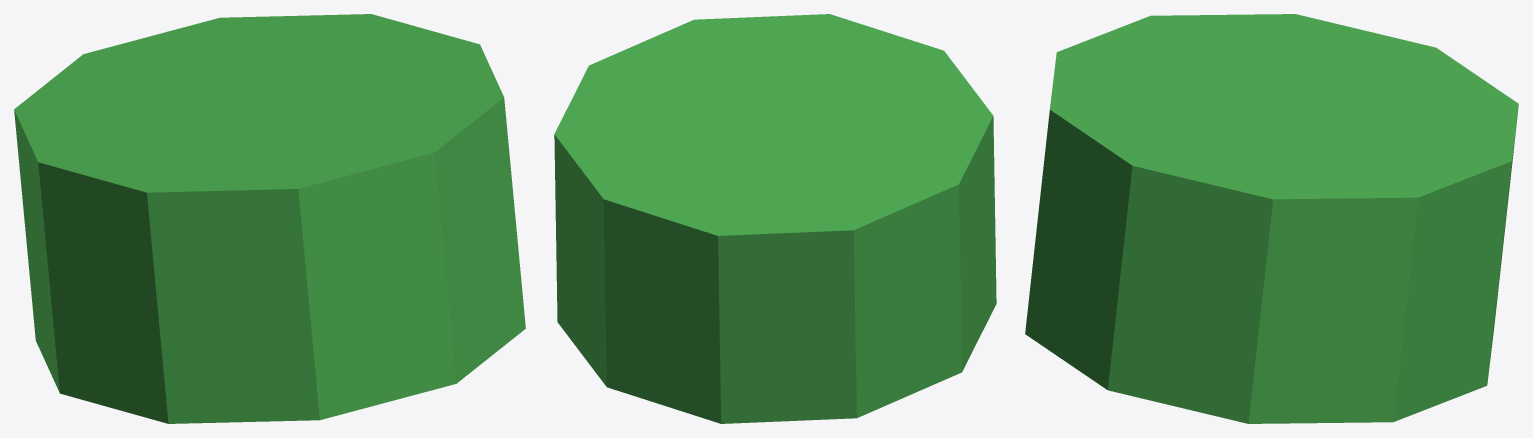
The model's file is group1102693292_lev3.glb.
The picture shows the model from 3 angles, left to right: view 1: azimuth 30°, elevation 25°; view 2: azimuth 150°, elevation 25°; view 3: azimuth 270°, elevation 25°; orthographic projection. The views are drawn at different scales.
Parts seen in each view (by area): view 1: group1102693292_lev3; view 2: group1102693292_lev3; view 3: group1102693292_lev3.
Boxes of the visible parts, <box> form: group1102693292_lev3: <box>14,14,525,423</box>; group1102693292_lev3: <box>554,14,996,423</box>; group1102693292_lev3: <box>1025,14,1518,423</box>.
Bounding box in the file's own units: 0.5599 × 0.3328 × 0.5549.
